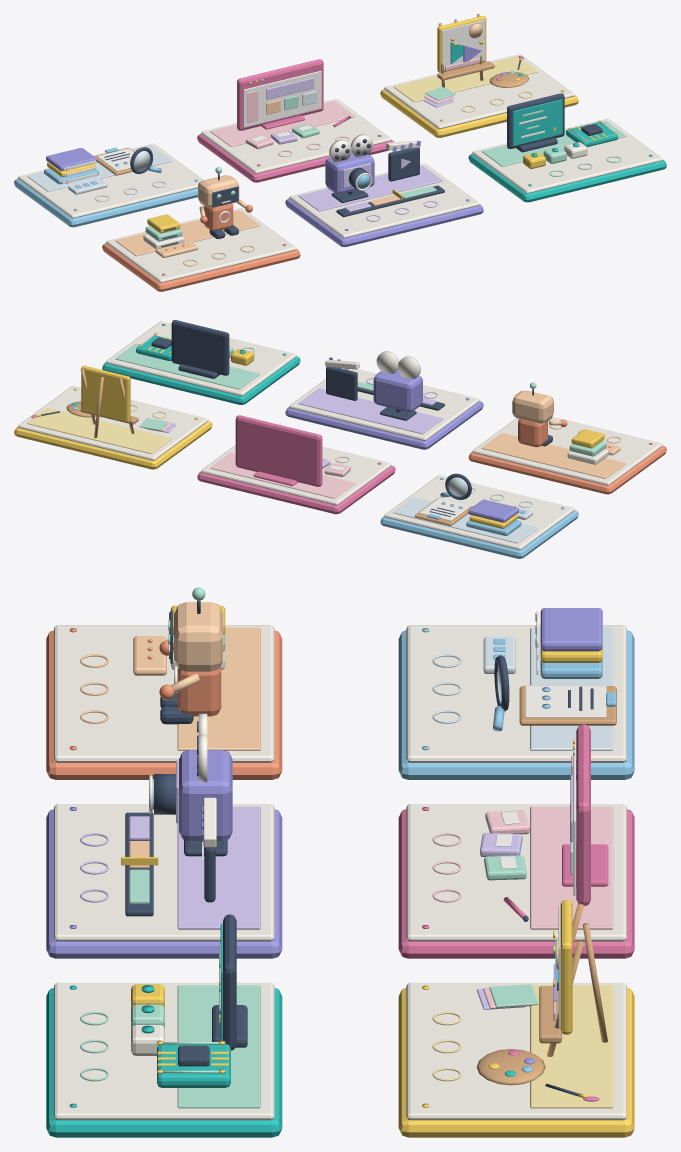
The model's file is lesson-lab-kit.glb.
The picture shows the model from 3 angles, top to bottom: view 1: azimuth 30°, elevation 25°; view 2: azimuth 150°, elevation 25°; view 3: azimuth 270°, elevation 25°; orthographic projection. The views are drawn at different scales.
Parts seen in each view (by area): view 1: Video_Porcelain, Prompt_Porcelain, Code_Porcelain, Research_Porcelain, Code_Lagoon, Creative_Porcelain, Design_Porcelain, Design_Berry, Video_Blueberry, Prompt_Peach, Prompt_Warm_clay, Video_Lilac (+18 smaller); view 2: Design_Berry, Creative_Marigold, Video_Porcelain, Prompt_Porcelain, Research_Porcelain, Prompt_Peach, Video_Blueberry, Creative_Porcelain, Code_Ink, Code_Porcelain, Prompt_Warm_clay, Creative_Butter (+15 smaller); view 3: Video_Porcelain, Code_Porcelain, Creative_Porcelain, Research_Porcelain, Prompt_Porcelain, Design_Porcelain, Prompt_Peach, Video_Blueberry, Design_Berry, Code_Lagoon, Video_Lilac, Creative_Marigold (+19 smaller).
Part boxes in pixels (<box>): Video_Porcelain: <box>289,134,479,238</box>; Prompt_Porcelain: <box>106,200,296,283</box>; Code_Porcelain: <box>472,116,662,193</box>; Research_Porcelain: <box>18,143,203,218</box>; Code_Lagoon: <box>468,99,666,202</box>; Creative_Porcelain: <box>384,54,574,129</box>; Design_Porcelain: <box>201,99,391,173</box>; Design_Berry: <box>197,59,393,182</box>; Video_Blueberry: <box>285,141,483,247</box>; Prompt_Peach: <box>115,175,259,266</box>; Prompt_Warm_clay: <box>102,203,300,291</box>; Video_Lilac: <box>298,158,442,221</box>; Design_Berry: <box>197,415,395,514</box>; Creative_Marigold: <box>14,365,212,469</box>; Video_Porcelain: <box>289,351,479,440</box>; Prompt_Porcelain: <box>472,416,662,485</box>; Research_Porcelain: <box>384,475,574,550</box>; Prompt_Peach: <box>481,390,626,478</box>; Video_Blueberry: <box>285,357,483,449</box>; Creative_Porcelain: <box>18,386,208,460</box>; Code_Ink: <box>151,320,229,378</box>; Code_Porcelain: <box>106,321,296,396</box>; Prompt_Warm_clay: <box>468,418,666,494</box>; Creative_Butter: <box>27,404,171,453</box>; Video_Porcelain: <box>54,713,274,941</box>; Code_Porcelain: <box>54,967,274,1120</box>; Creative_Porcelain: <box>406,982,626,1120</box>; Research_Porcelain: <box>406,612,626,762</box>; Prompt_Porcelain: <box>54,625,274,762</box>; Design_Porcelain: <box>406,804,626,941</box>; Prompt_Peach: <box>80,602,260,750</box>; Video_Blueberry: <box>46,750,282,958</box>; Design_Berry: <box>398,724,634,958</box>; Code_Lagoon: <box>46,924,282,1137</box>; Video_Lilac: <box>80,760,260,929</box>; Creative_Marigold: <box>398,900,634,1137</box>.
Bounding box in the file's own units: 16.7 × 2.36 × 8.35.
